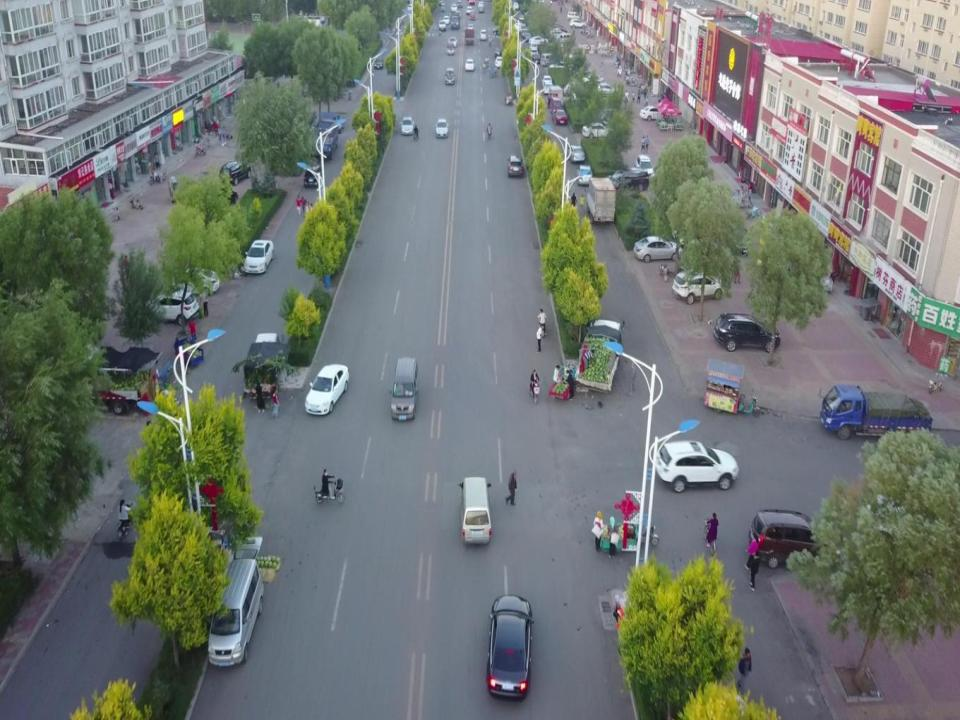car: (486, 594, 532, 700), (747, 510, 824, 570), (655, 440, 739, 492), (712, 314, 782, 352), (305, 362, 351, 415), (143, 288, 200, 324), (674, 271, 725, 304), (634, 237, 684, 261), (611, 169, 648, 197), (243, 241, 273, 274), (182, 266, 220, 292), (220, 163, 252, 183), (506, 153, 526, 181), (581, 120, 611, 136), (575, 164, 594, 187), (305, 159, 321, 186), (640, 106, 670, 120), (550, 106, 568, 127), (636, 154, 653, 176), (579, 74, 604, 88), (559, 49, 585, 62), (540, 52, 560, 68), (400, 116, 415, 136), (567, 144, 584, 161), (436, 118, 450, 138), (595, 83, 618, 95), (511, 19, 528, 35), (527, 37, 549, 48), (548, 27, 568, 38), (546, 22, 564, 34), (445, 66, 455, 86), (569, 18, 587, 29), (518, 27, 531, 39), (446, 38, 455, 55), (494, 55, 505, 68), (566, 10, 580, 20), (527, 45, 538, 57), (374, 52, 382, 68), (464, 59, 474, 69), (478, 0, 486, 12), (512, 1, 520, 11), (468, 9, 476, 19), (480, 28, 487, 39), (438, 19, 446, 27), (450, 5, 458, 13), (528, 52, 539, 56), (468, 6, 472, 16)
truck: (820, 385, 933, 441), (79, 345, 155, 415), (577, 318, 625, 393), (586, 176, 615, 224), (313, 112, 337, 157), (464, 27, 476, 45)
van: (207, 536, 264, 668), (461, 476, 493, 547), (391, 357, 419, 422), (560, 30, 576, 42), (450, 12, 462, 28)
